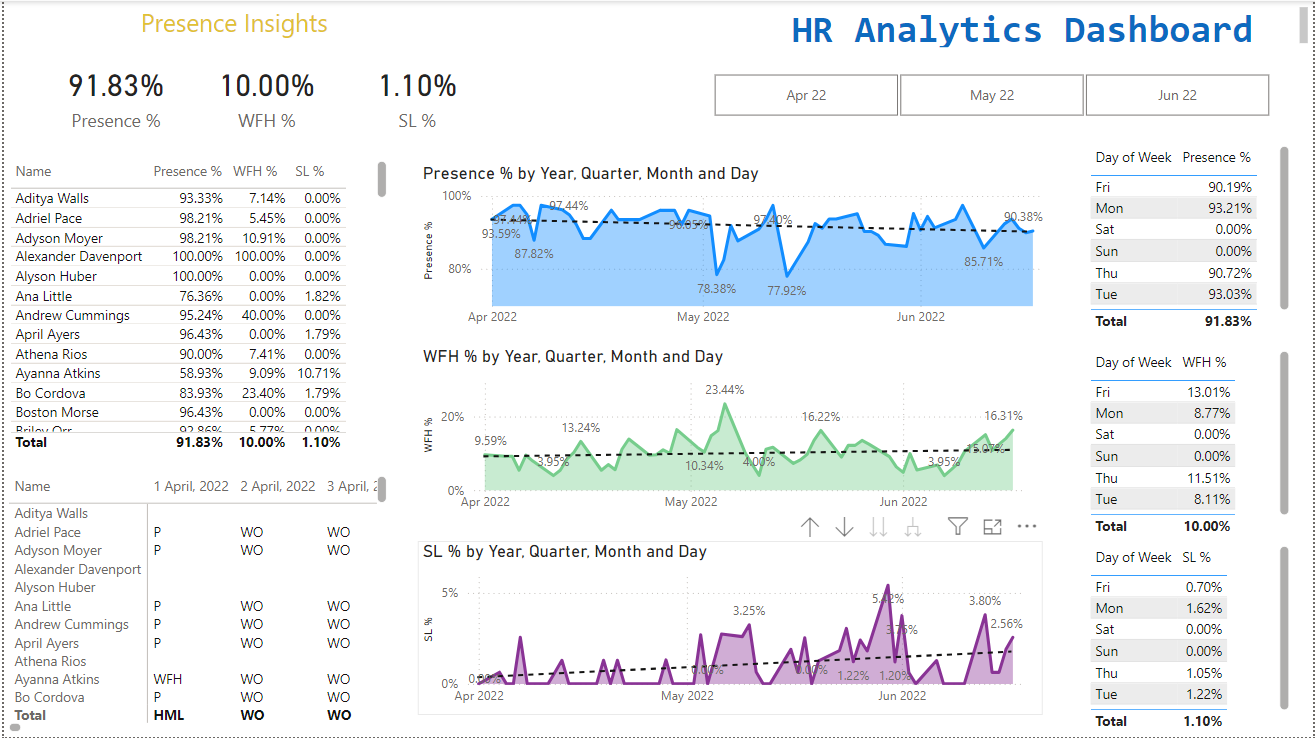

What the dashboard file says about the page in this screenshot:
{"tool":"powerbi","page":{"name":"Page 1","canvas":[1280,720],"ordinal":0},"visuals":[{"type":"card","fields":{"Values":["Measure Table.Presence %"]},"box":[22.8,31.7,172.6,119.3],"z":0},{"type":"slicer","fields":{"Values":["Final Data.Month"]},"box":[668.9,64.8,593.1,53.8],"z":1000},{"type":"card","fields":{"Values":["Measure Table.WFH %"]},"box":[314.7,31.7,180.2,119.3],"z":2000},{"type":"card","fields":{"Values":["Measure Table.WFH %"]},"box":[164.9,31.7,184,119.3],"z":3000},{"type":"tableEx","fields":{"Values":["Final Data.Name","Measure Table.Presence %","Measure Table.WFH %","Measure Table.SL %"]},"box":[0,151.6,379.1,293.5],"z":4000},{"type":"textbox","box":[0,0,450.4,64.7],"z":5000},{"type":"pivotTable","fields":{"Rows":["Final Data.Name"],"Values":["Final Data.Value"],"Columns":["Final Data.Date"]},"box":[0,459.8,379.1,260.5],"z":6000},{"type":"areaChart","fields":{"Y":["Measure Table.Presence %"],"Category":["Final Data.Date.Variation.Date Hierarchy.Year","Final Data.Date.Variation.Date Hierarchy.Quarter","Final Data.Date.Variation.Date Hierarchy.Month","Final Data.Date.Variation.Date Hierarchy.Day"]},"box":[404.8,157.7,631,170],"z":7000},{"type":"areaChart","fields":{"Y":["Measure Table.WFH %"],"Category":["Final Data.Date.Variation.Date Hierarchy.Year","Final Data.Date.Variation.Date Hierarchy.Quarter","Final Data.Date.Variation.Date Hierarchy.Month","Final Data.Date.Variation.Date Hierarchy.Day"]},"box":[404.8,337.5,611.4,171.2],"z":7001},{"type":"areaChart","fields":{"Y":["Measure Table.SL %"],"Category":["Final Data.Date.Variation.Date Hierarchy.Year","Final Data.Date.Variation.Date Hierarchy.Quarter","Final Data.Date.Variation.Date Hierarchy.Month","Final Data.Date.Variation.Date Hierarchy.Day"]},"box":[404.8,528.3,611.4,170],"z":7002},{"type":"tableEx","fields":{"Values":["Final Data.Day of Week","Measure Table.Presence %"]},"box":[1056.5,137,205.5,190.3],"z":7003},{"type":"tableEx","fields":{"Values":["Final Data.Day of Week","Measure Table.WFH %"]},"box":[1056.5,338,205.5,190.3],"z":7004},{"type":"tableEx","fields":{"Values":["Final Data.Day of Week","Measure Table.SL %"]},"box":[1056.5,528.3,205.5,190.3],"z":7005},{"type":"textbox","box":[720.2,1.2,560.1,48.9],"z":7006}]}

Visuals, with their boxes in screenshot pixels (x1, y1, x2, y2), scaled from the page's 1280x720 canvas onto the 1315x738 screenshot:
card - Measure Table.Presence %: [x1=23, y1=32, x2=201, y2=155]
slicer - Final Data.Month: [x1=687, y1=66, x2=1297, y2=122]
card - Measure Table.WFH %: [x1=323, y1=32, x2=508, y2=155]
card - Measure Table.WFH %: [x1=169, y1=32, x2=358, y2=155]
tableEx - Final Data.Name x Measure Table.Presence %: [x1=0, y1=155, x2=389, y2=456]
textbox: [x1=0, y1=0, x2=463, y2=66]
pivotTable - Final Data.Name x Final Data.Value: [x1=0, y1=471, x2=389, y2=737]
areaChart - Measure Table.Presence % x Final Data.Date.Variation.Date Hierarchy.Year: [x1=416, y1=162, x2=1064, y2=336]
areaChart - Measure Table.WFH % x Final Data.Date.Variation.Date Hierarchy.Year: [x1=416, y1=346, x2=1044, y2=521]
areaChart - Measure Table.SL % x Final Data.Date.Variation.Date Hierarchy.Year: [x1=416, y1=542, x2=1044, y2=716]
tableEx - Final Data.Day of Week x Measure Table.Presence %: [x1=1085, y1=140, x2=1297, y2=335]
tableEx - Final Data.Day of Week x Measure Table.WFH %: [x1=1085, y1=346, x2=1297, y2=542]
tableEx - Final Data.Day of Week x Measure Table.SL %: [x1=1085, y1=542, x2=1297, y2=737]
textbox: [x1=740, y1=1, x2=1314, y2=51]
